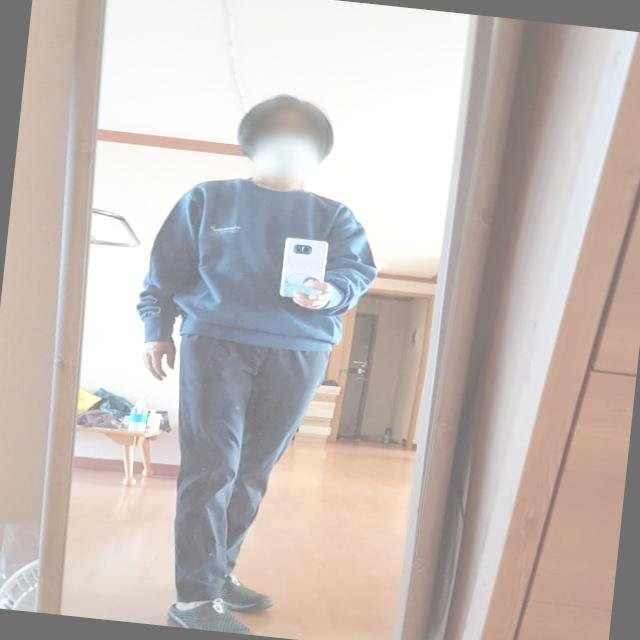denimpants: (152, 330, 330, 616)
mtm: (132, 169, 385, 359)
